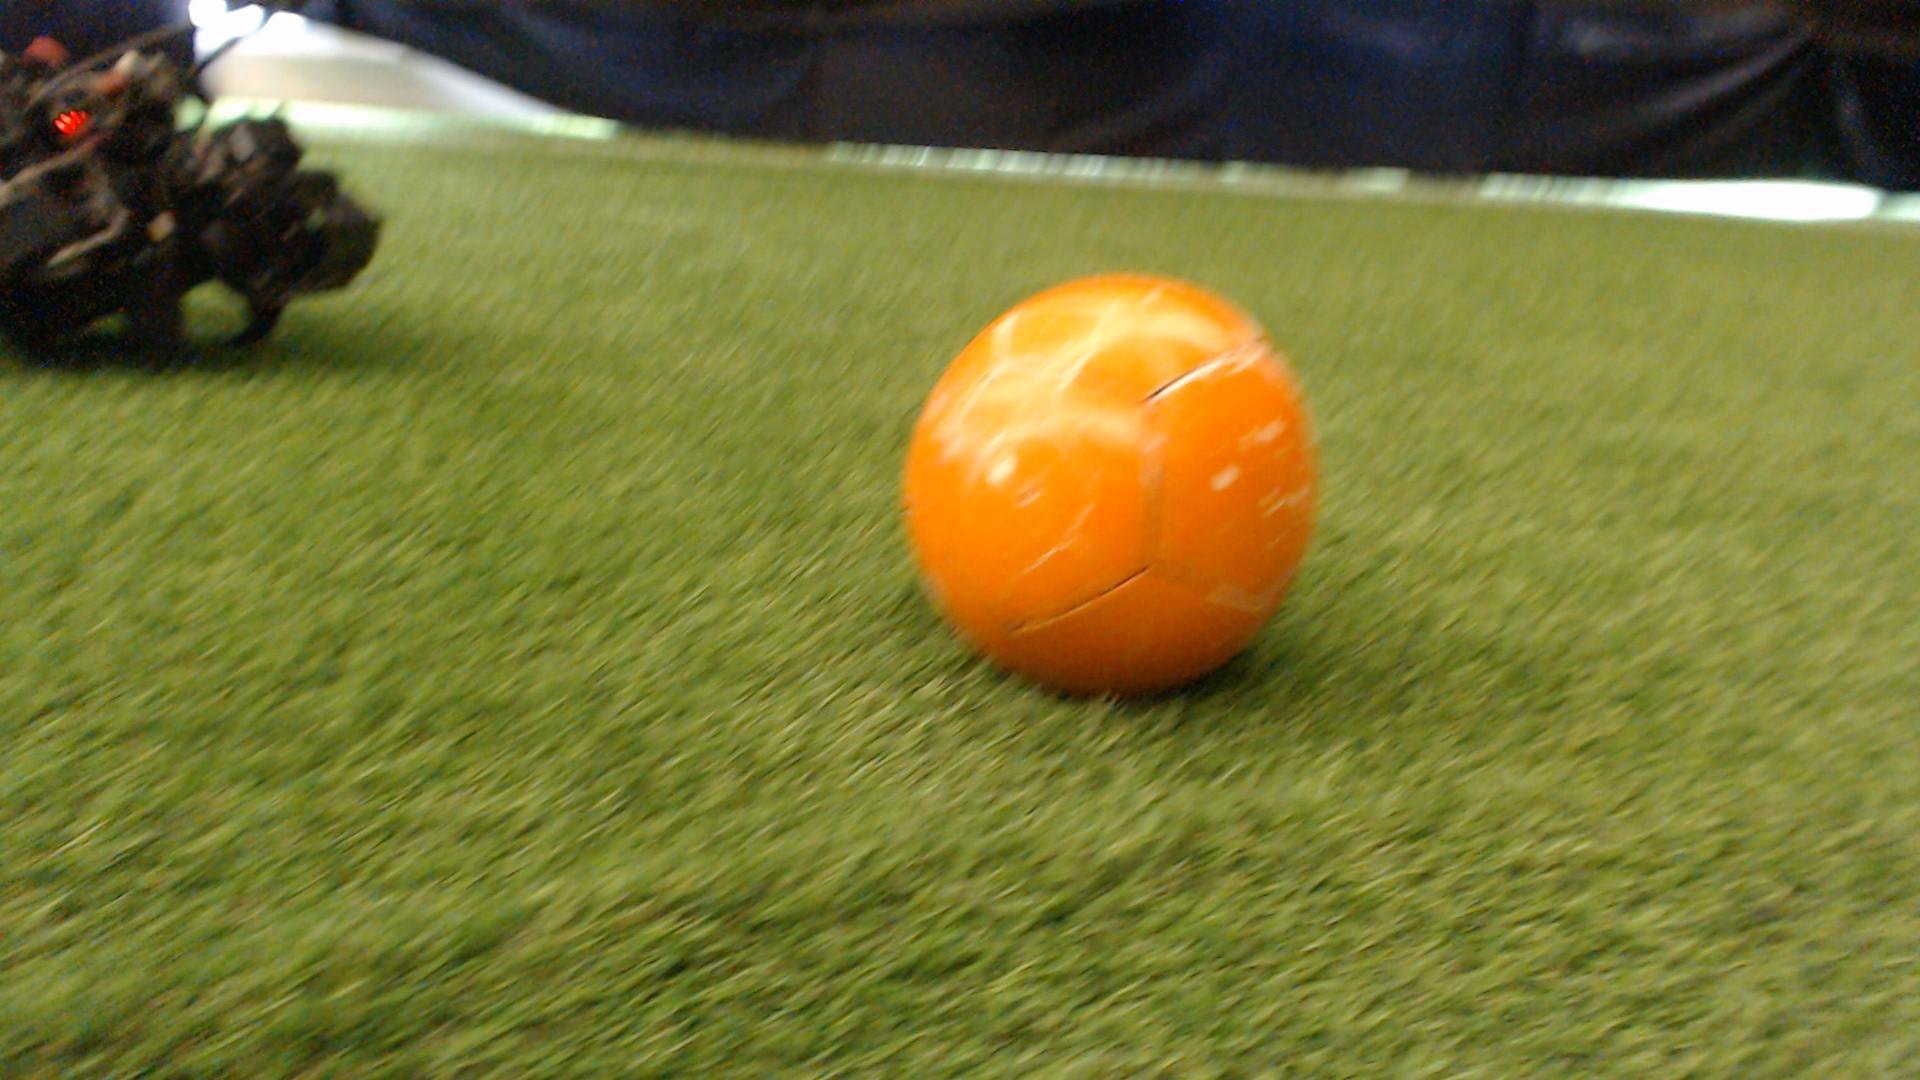bola: (881, 236, 1362, 727)
